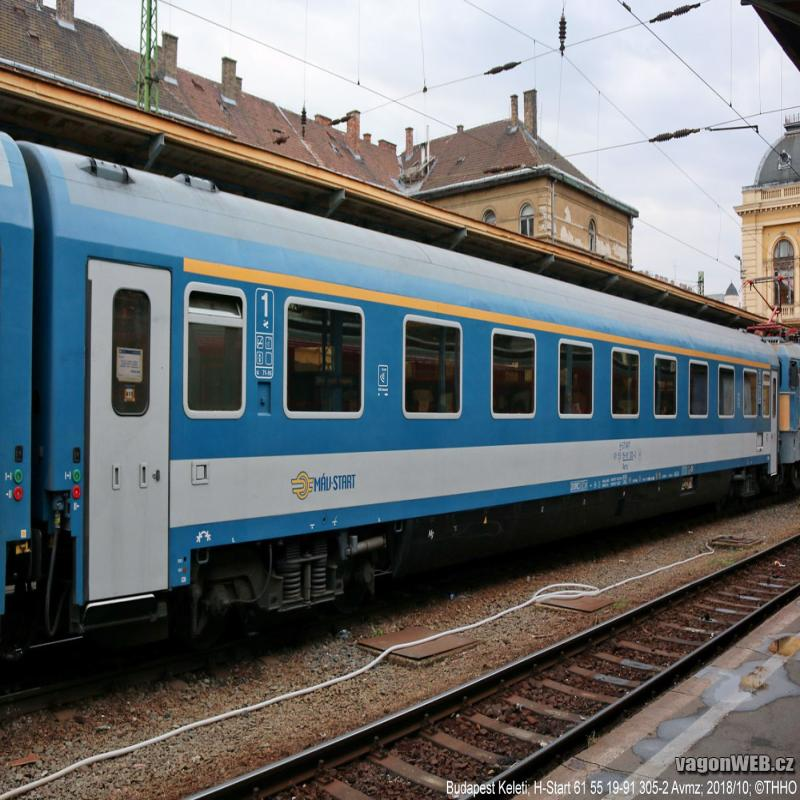train: (25, 144, 780, 667)
